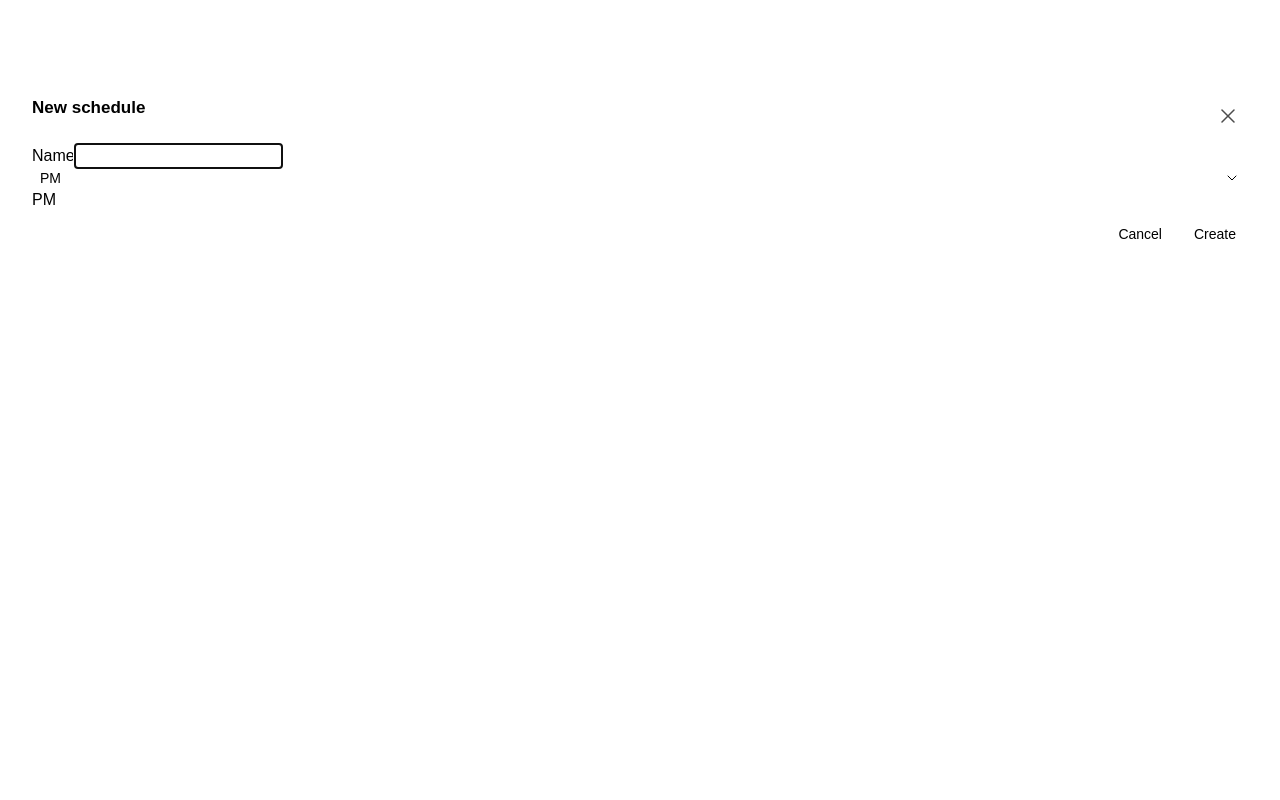
a Select pick keeps focus on the Select (V3-R8-2) › pointer: a picked option leaves focus on the Select, not on the dialog box
Click the dropdown named "AM or PM" at (50, 178), box [40,170,61,186]
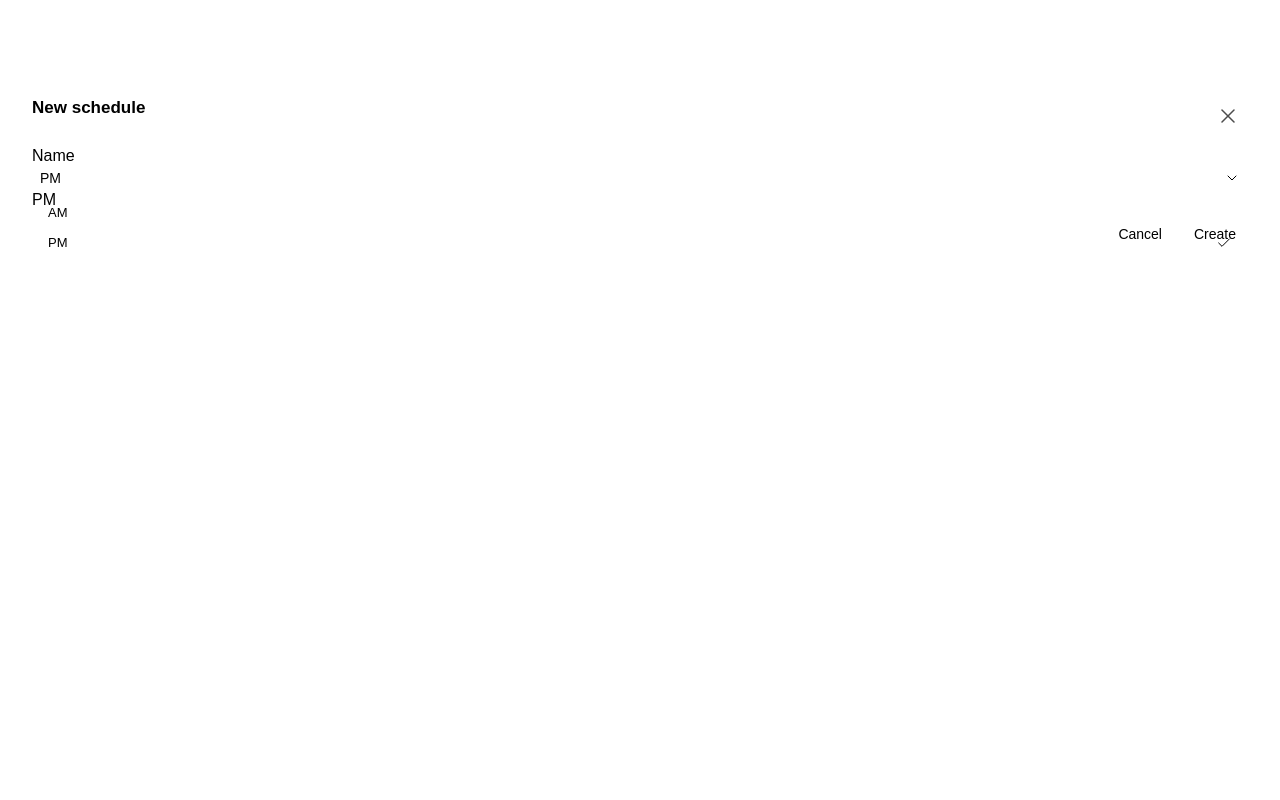
Press Arrowdown
Click the option "AM" at (58, 212), box [48,205,68,220]
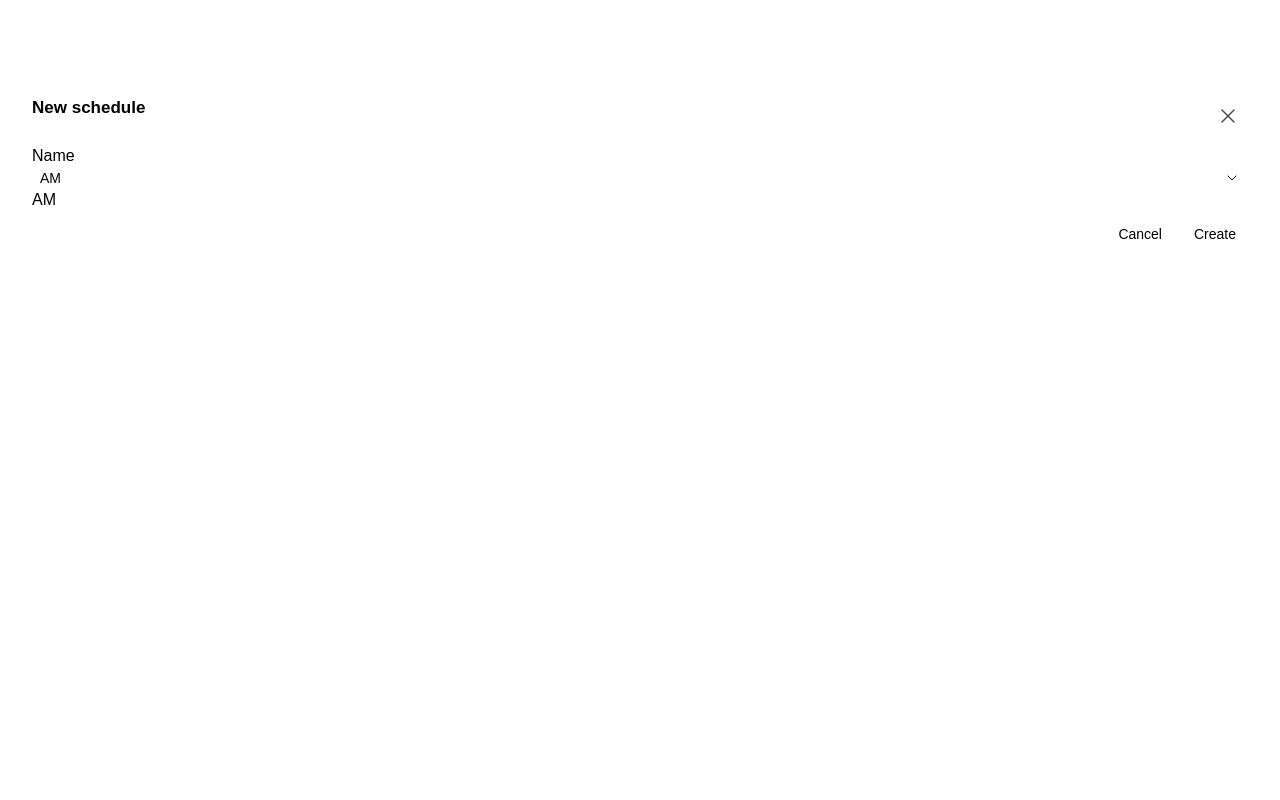
Expected: the text with test id "period" reads "AM", [32,191,56,208]
Expected: no options are shown
